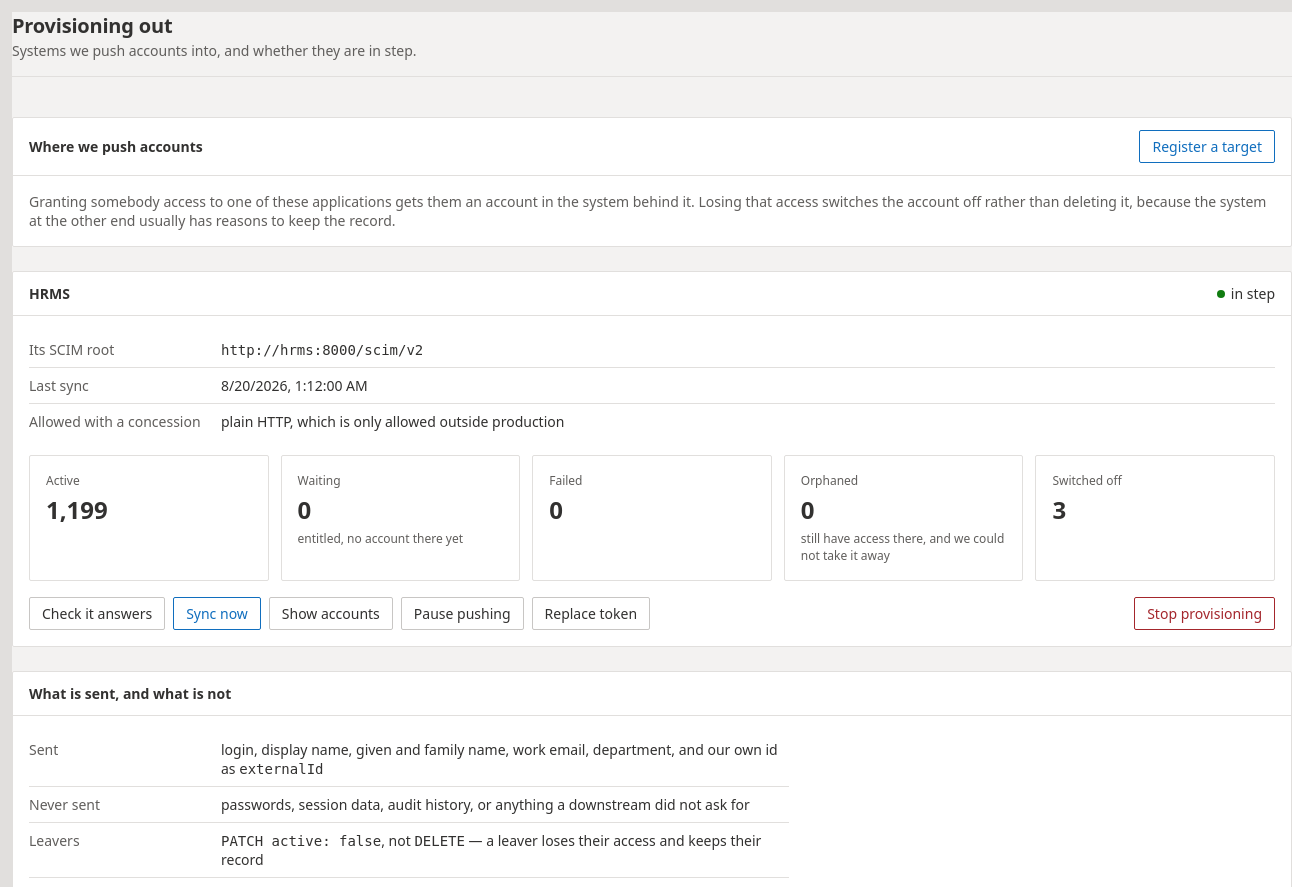
stopping provisioning asks first, and says what it does not do
This screenshot has width=1292, height=887.
Click the button "Stop provisioning". click: [1205, 614]
box: [1134, 597, 1275, 630]
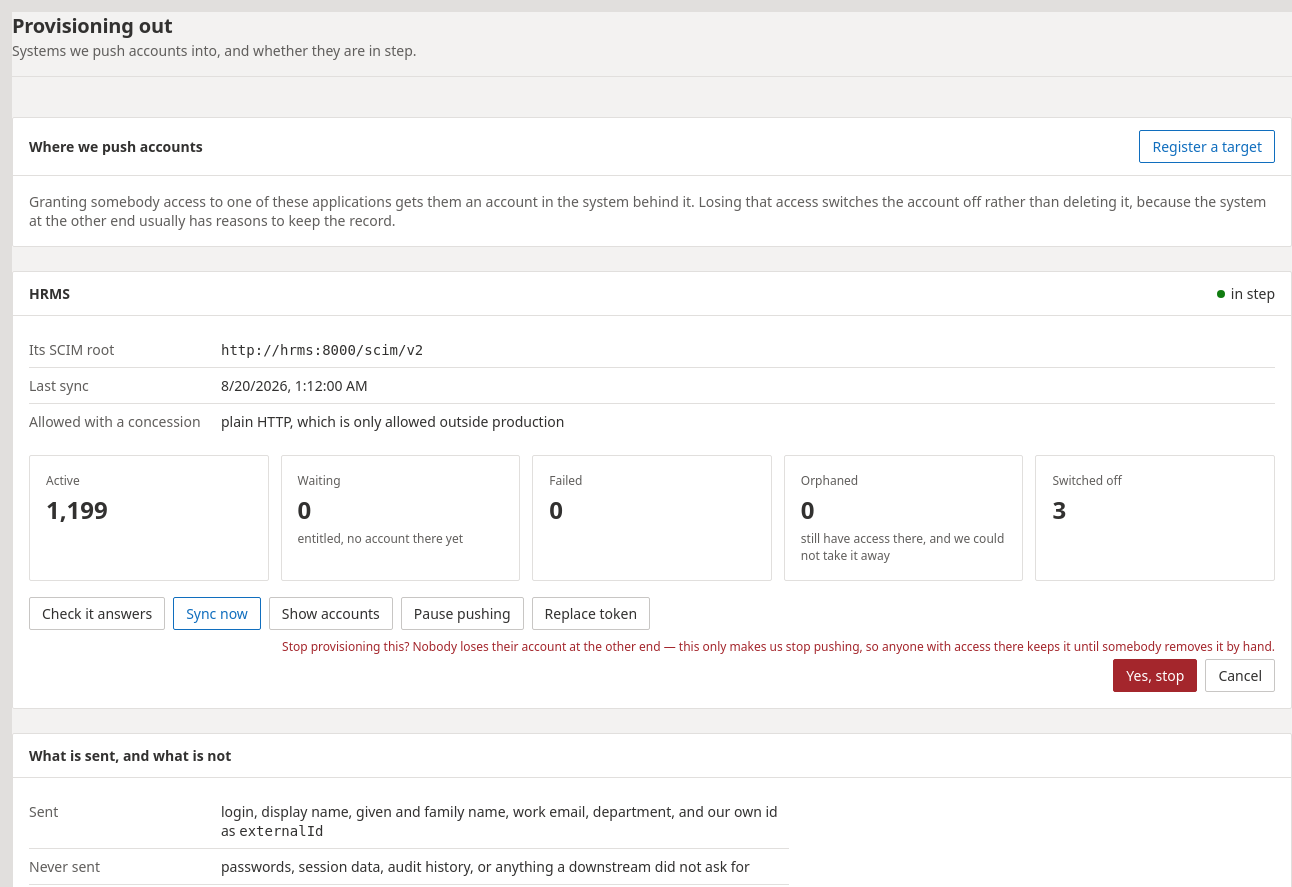
Expected: the text "Nobody loses their account at the other end" is shown, [282, 638, 1275, 655]
